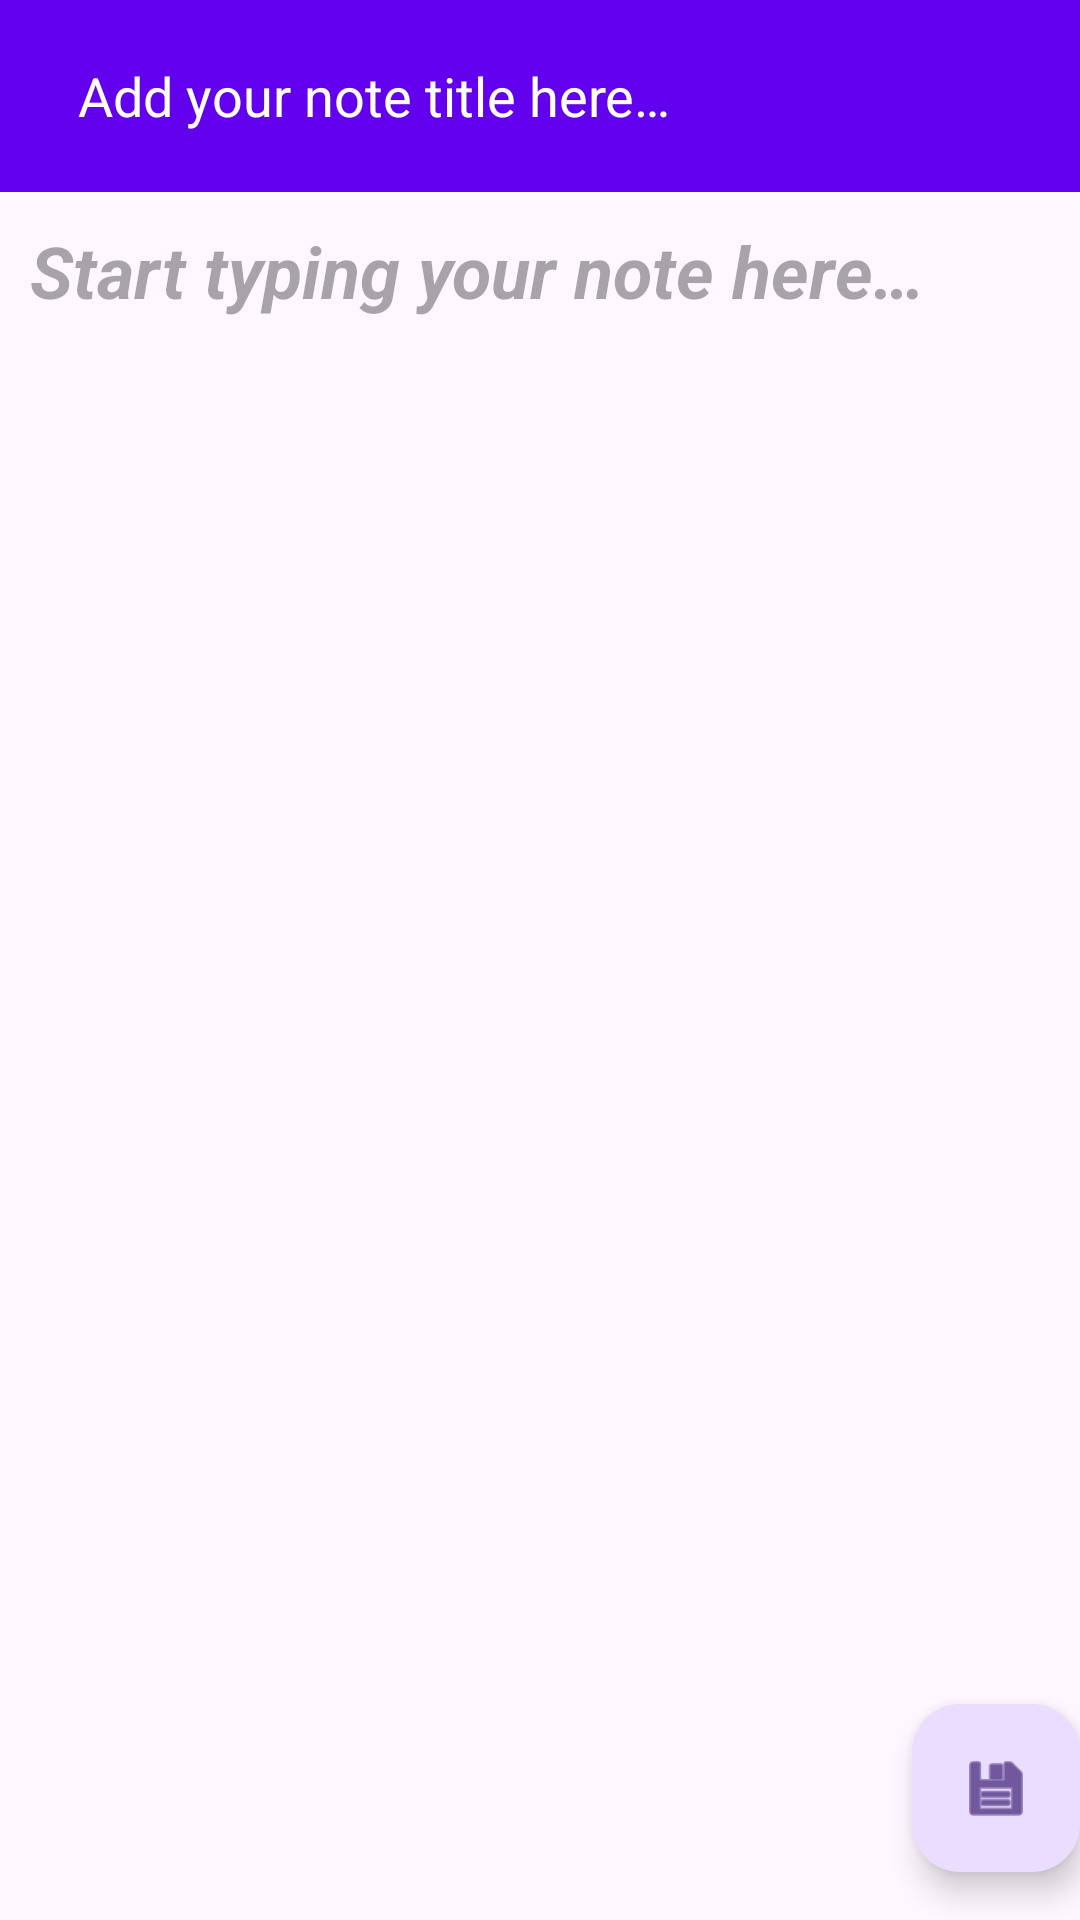

Icon bounding boxes for this 1080 x 1920 phone screenshot, format (x1, y1, x2, y2):
save: (912, 1704, 1080, 1872)
